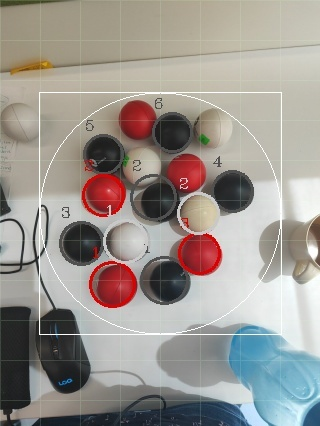Pelota blanca: (287, 214, 320, 286), (0, 217, 36, 275), (175, 190, 219, 235), (103, 220, 150, 262), (257, 217, 286, 283), (193, 105, 233, 150), (121, 145, 163, 184), (0, 100, 38, 142)
Pelota negra: (34, 315, 92, 395), (137, 254, 193, 307), (129, 172, 179, 227), (58, 220, 105, 267), (212, 169, 254, 214), (151, 110, 193, 152), (82, 132, 123, 174), (116, 393, 166, 425)
Pelota roja: (87, 260, 137, 310), (172, 230, 222, 278), (79, 172, 126, 219), (116, 97, 158, 142), (164, 153, 206, 195)
